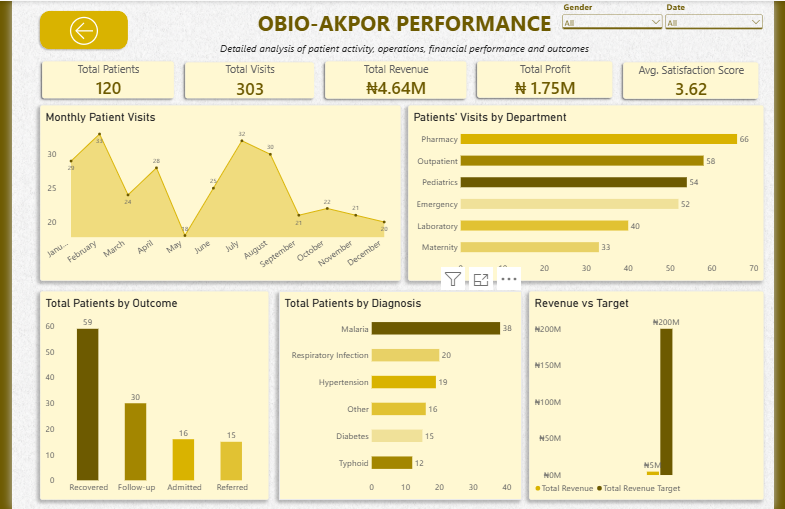

This screenshot's page, from the dashboard's own definition file:
{"tool":"powerbi","page":{"name":"BRANCH DETAILS","canvas":[2400,1600],"ordinal":6},"visuals":[{"type":"textbox","box":[450.4,22,1571.7,154.3],"z":0},{"type":"cardVisual","fields":{"Data":["Date_Table.Total Patients"]},"box":[79.7,174.2,448.8,150.6],"z":1000},{"type":"cardVisual","fields":{"Data":["Date_Table.Total Visits"]},"box":[529.1,176.4,440,147.6],"z":2000},{"type":"cardVisual","fields":{"Data":["Date_Table.Total Profit"]},"box":[1448.8,173.2,459.8,148],"z":3000},{"type":"actionButton","box":[79.7,20.7,295.3,138.8],"z":4000},{"type":"cardVisual","fields":{"Data":["Date_Table.Total Revenue"]},"box":[970.1,173.2,478.7,151.2],"z":5000},{"type":"cardVisual","fields":{"Data":["Date_Table.Avg. Satisfaction Score"]},"box":[1908.7,176.4,459.8,148],"z":6000},{"type":"lineChart","title":"Monthly Patient Visits","fields":{"Category":["Date_Table.Date.Variation.Date Hierarchy.Month"],"Y":["Date_Table.Total Visits"]},"box":[88.2,327.6,1137,554.3],"z":7000},{"type":"clusteredBarChart","title":"Patients'' Visits by Department","fields":{"Category":["Patient_Visits.Department"],"Y":["Date_Table.Total Visits"]},"box":[1247.2,327.6,1121.3,554.3],"z":8000},{"type":"clusteredColumnChart","fields":{"Category":["Patient_Visits.Outcome"],"Y":["Date_Table.Total Patients"]},"box":[88.2,913.4,721.3,658.3],"z":9000},{"type":"clusteredColumnChart","title":"Revenue vs Target","fields":{"Y":["Date_Table.Total Revenue","Date_Table.Total Revenue Target"]},"box":[1628.3,913.4,740.2,658.3],"z":10000},{"type":"clusteredBarChart","fields":{"Category":["Patient_Visits.Diagnosis"],"Y":["Date_Table.Total Patients"]},"box":[840.9,913.4,765.4,658.3],"z":11000},{"type":"slicer","fields":{"Values":["Patient_Visits.Gender"]},"box":[1729.1,0,324.4,110.2],"z":11001},{"type":"slicer","fields":{"Values":["Date_Table.Date"]},"box":[2053.5,0,315,113.4],"z":11002}]}

Visuals, with their boxes in screenshot pixels (x1, y1, x2, y2), scaled from the page's 2400x1600 canvas onto the 785x509 screenshot:
textbox: Rect(147, 7, 661, 56)
cardVisual - Date_Table.Total Patients: Rect(26, 55, 173, 103)
cardVisual - Date_Table.Total Visits: Rect(173, 56, 317, 103)
cardVisual - Date_Table.Total Profit: Rect(474, 55, 624, 102)
actionButton: Rect(26, 7, 123, 51)
cardVisual - Date_Table.Total Revenue: Rect(317, 55, 474, 103)
cardVisual - Date_Table.Avg. Satisfaction Score: Rect(624, 56, 775, 103)
"Monthly Patient Visits" lineChart: Rect(29, 104, 401, 281)
"Patients'' Visits by Department" clusteredBarChart: Rect(408, 104, 775, 281)
clusteredColumnChart - Patient_Visits.Outcome x Date_Table.Total Patients: Rect(29, 291, 265, 500)
"Revenue vs Target" clusteredColumnChart: Rect(533, 291, 775, 500)
clusteredBarChart - Patient_Visits.Diagnosis x Date_Table.Total Patients: Rect(275, 291, 525, 500)
slicer - Patient_Visits.Gender: Rect(566, 0, 672, 35)
slicer - Date_Table.Date: Rect(672, 0, 775, 36)
